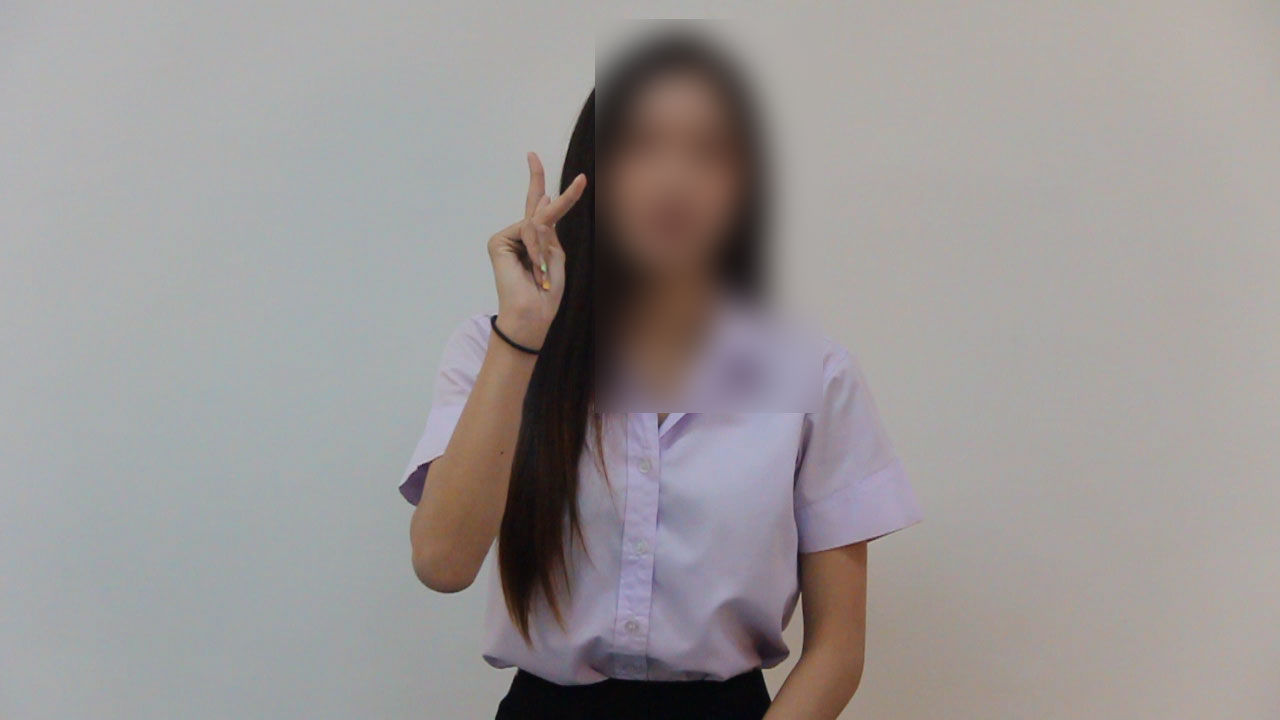ko: (480, 149, 595, 338)
